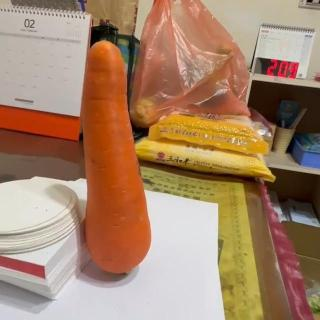carrot: (80, 40, 154, 276)
